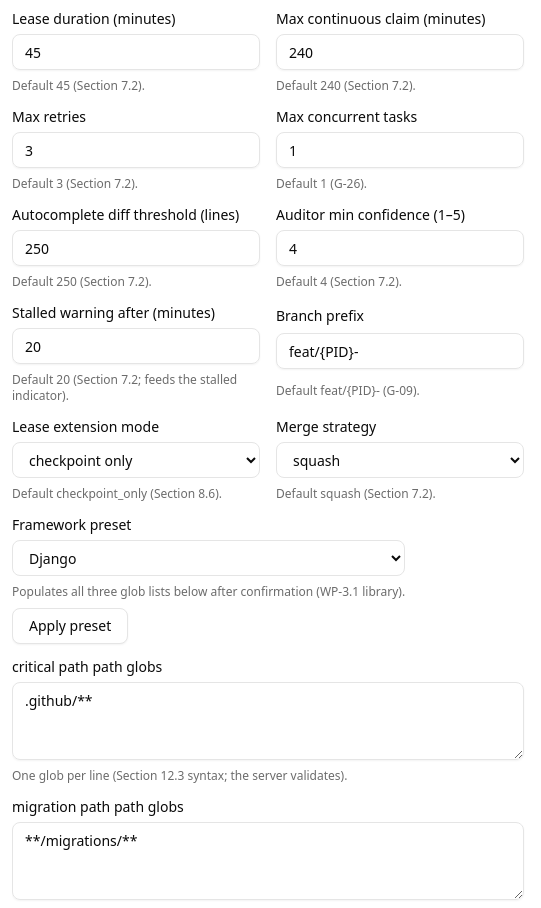
Scenario: PolicyForm presets and states (MT-4.10-03) › offers the WP-3.1 presets and populates the three glob lists only after confirmation, keeping other unsaved edits
The image size is (541, 908).
Note: Other unsaved edit first — the preset must not clobber it.
Replace the text in the field labelled "Lease duration (minutes)" with "50" at [136, 52], box [12,34,260,70]
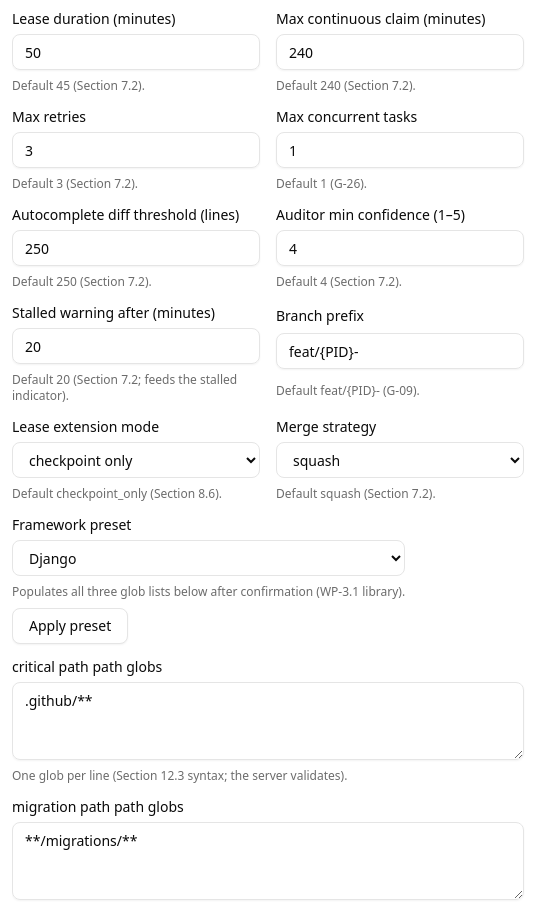
Check: the text box labelled "critical path path globs" holds ".github/**", box [12,682,524,760]
Click the button with test id "policy-preset-apply" at [70, 626], box [12,608,128,644]
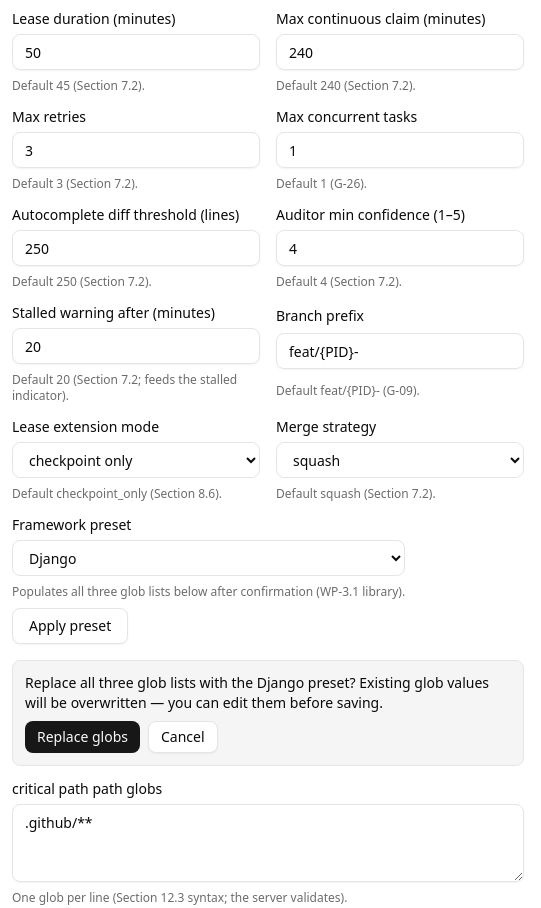
Check: the text box labelled "critical path path globs" holds ".github/**", box [12,804,524,882]
Check: the text "Existing glob values will be overwritten" is shown, box [25,673,489,712]
Click the button with test id "policy-preset-confirm-apply" at [82, 737], box [25,721,140,753]
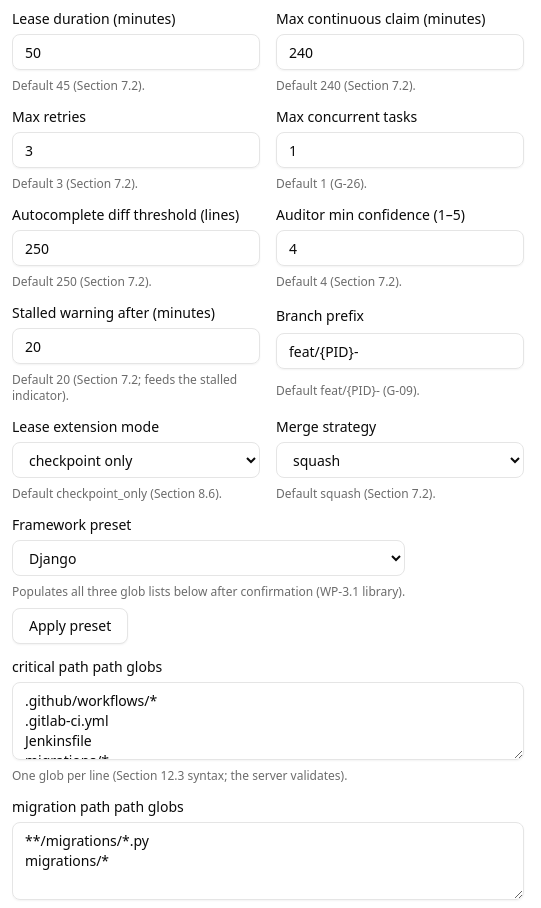
Note: Cancel path: a second preset attempt can still be abandoned.
Select "Flutter" in the dropdown with test id "policy-preset-select" at [209, 558], box [12,540,405,576]
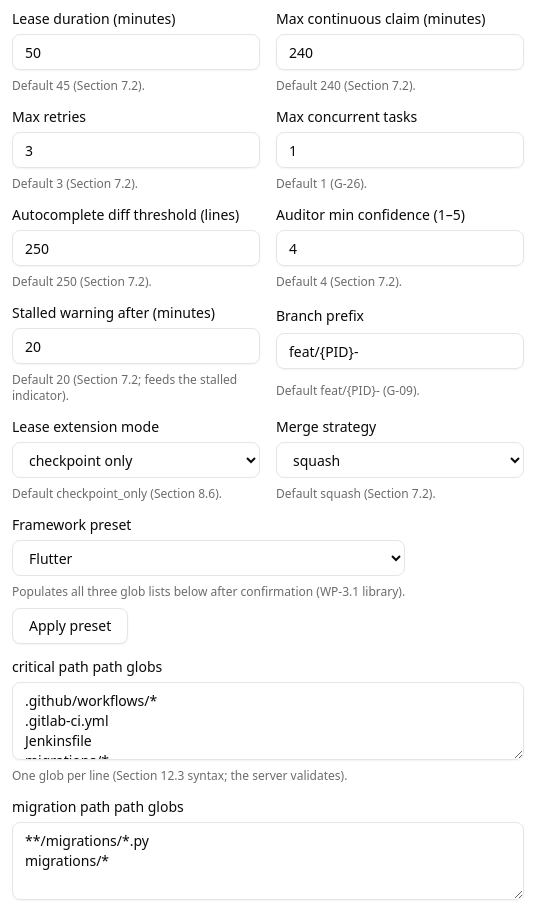
Click the button with test id "policy-preset-apply" at [70, 626], box [12,608,128,644]
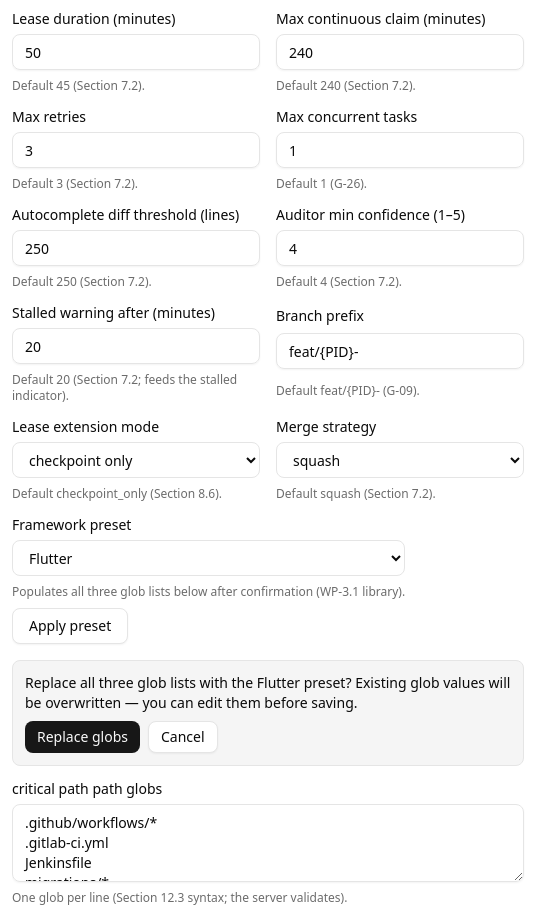
Click the button with test id "policy-preset-confirm-cancel" at [183, 737], box [148,721,218,753]
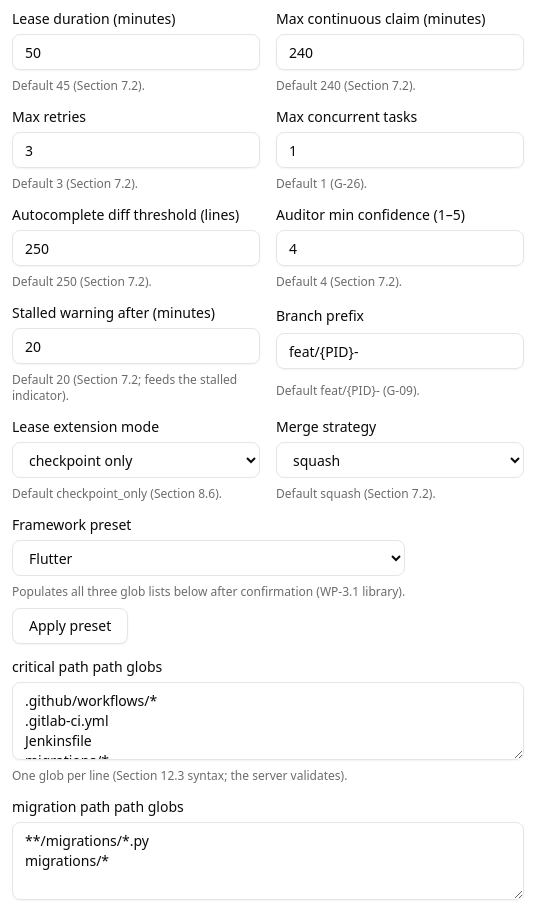
Check: the element with test id "policy-preset-confirm" is gone
